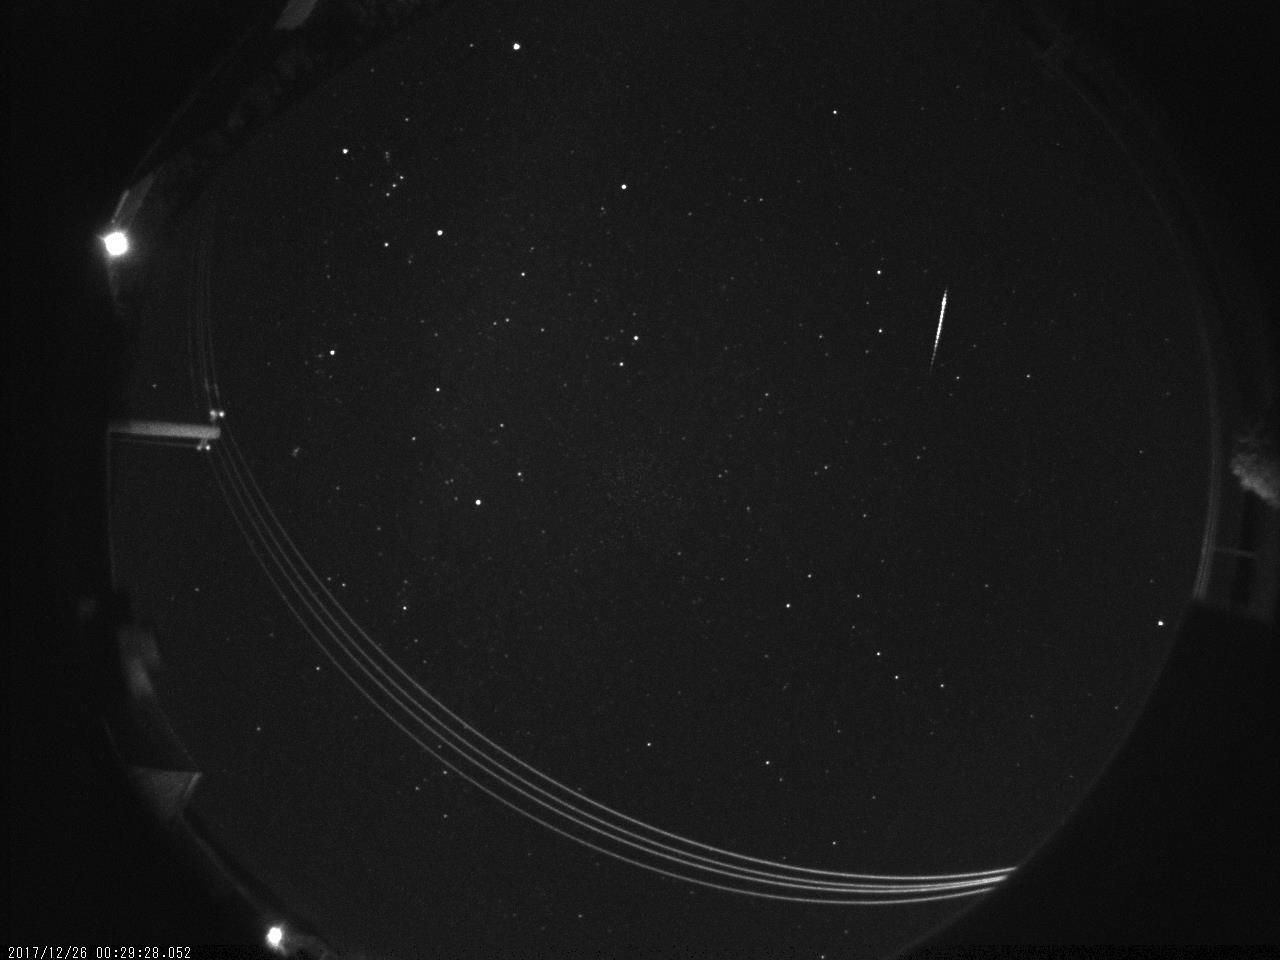Meteor: (925, 285, 952, 373)
